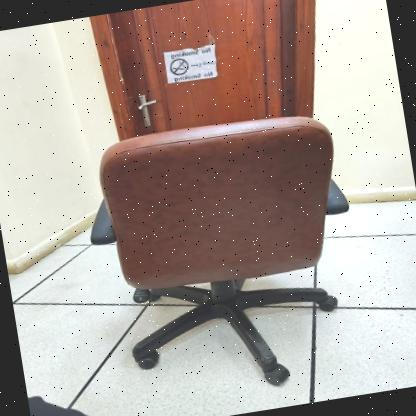chair: (67, 98, 383, 406)
